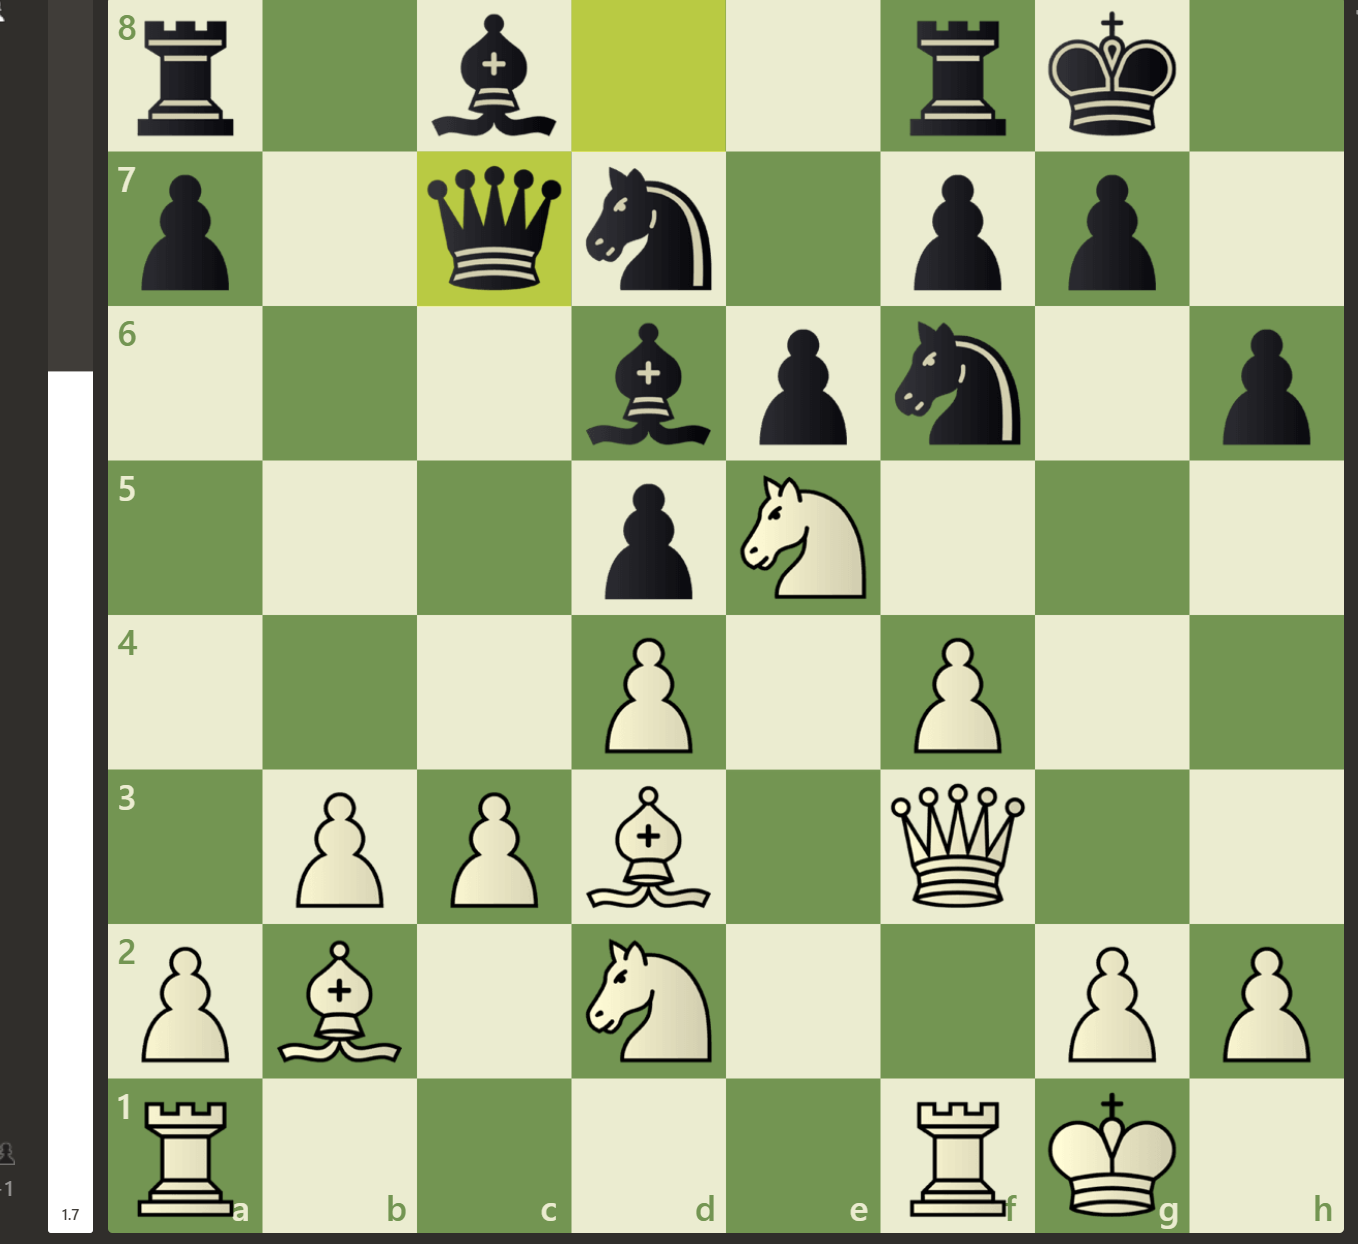beyaz_at: (577, 929, 722, 1073), (733, 464, 869, 605)
beyaz_fil: (269, 927, 414, 1065), (586, 777, 716, 914)
beyaz_kale: (119, 1084, 258, 1225), (890, 1086, 1022, 1223)
beyaz_piyon: (888, 622, 1026, 763), (272, 775, 409, 914), (117, 929, 248, 1070), (1197, 929, 1328, 1063), (586, 627, 712, 762), (1050, 932, 1177, 1065), (439, 777, 561, 909)
beyaz_sah: (1042, 1087, 1183, 1226)
beyaz_vezir: (885, 770, 1029, 914)
siyah_at: (578, 157, 719, 300), (888, 317, 1033, 449)
siyah_fil: (582, 312, 717, 455), (427, 7, 564, 136)
siyah_kale: (118, 7, 251, 143), (895, 9, 1015, 141)
siyah_piyon: (1043, 155, 1176, 300), (733, 315, 871, 453), (890, 157, 1021, 302), (122, 164, 258, 300), (584, 469, 717, 601), (1212, 315, 1331, 453)
siyah_sah: (1040, 4, 1177, 136)
siyah_vezir: (425, 153, 564, 300)
